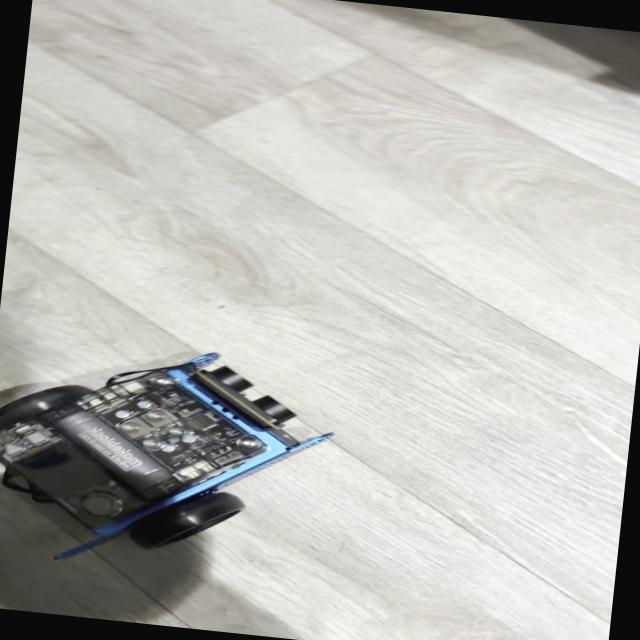mbot-detection: (0, 322, 362, 599)
